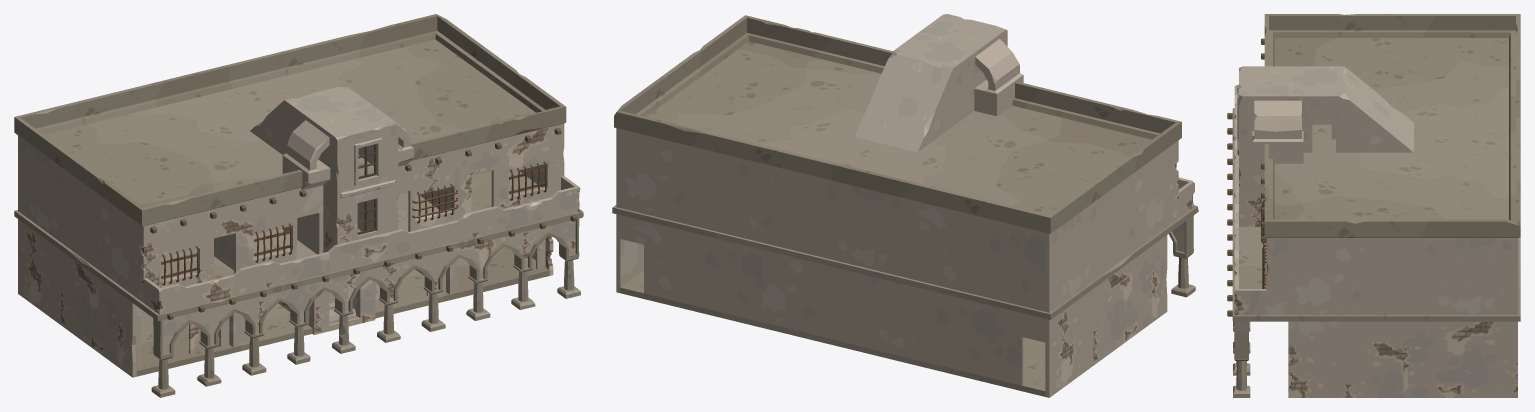
The model's file is SM_Bld_Shop_06.glb.
3 renders of one model, left to right at view 1: azimuth 30°, elevation 25°; view 2: azimuth 150°, elevation 25°; view 3: azimuth 270°, elevation 25°, orthographic. The views are drawn at different scales.
Visible parts, largest first — view 1: SM_Bld_Shop_06; view 2: SM_Bld_Shop_06; view 3: SM_Bld_Shop_06.
Boxes of the visible parts, x1=… form: SM_Bld_Shop_06: x1=14, y1=14, x2=583, y2=397; SM_Bld_Shop_06: x1=612, y1=14, x2=1198, y2=397; SM_Bld_Shop_06: x1=1227, y1=14, x2=1520, y2=397.
Bounding box in the file's own units: 21.47 × 10.27 × 12.78.
1 material, 1 textured.
